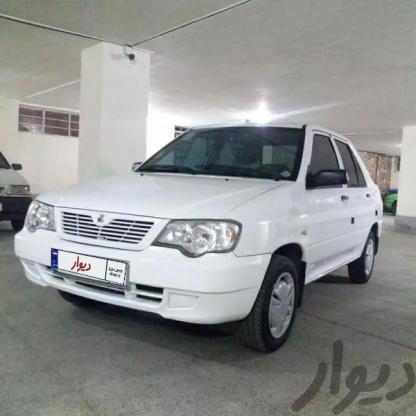Car: (6, 130, 392, 341), (0, 146, 52, 270)
